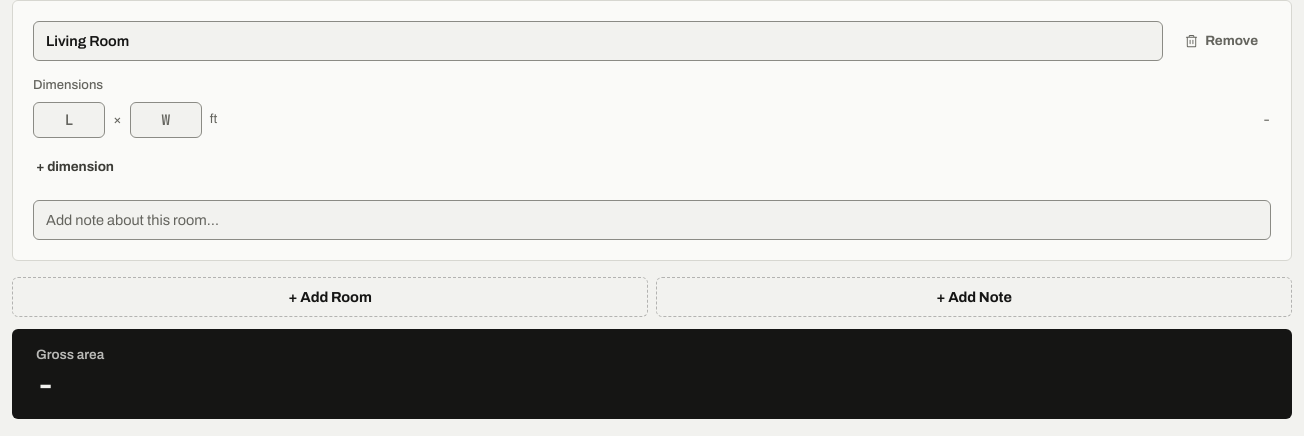
Scenario: RoomSection › edits width/length: derived sqft and gross-area total update on commit
This screenshot has width=1304, height=436.
Type "12" into the field with placeholder "L". click: coordinates (69, 120)
box: [33,102,105,138]
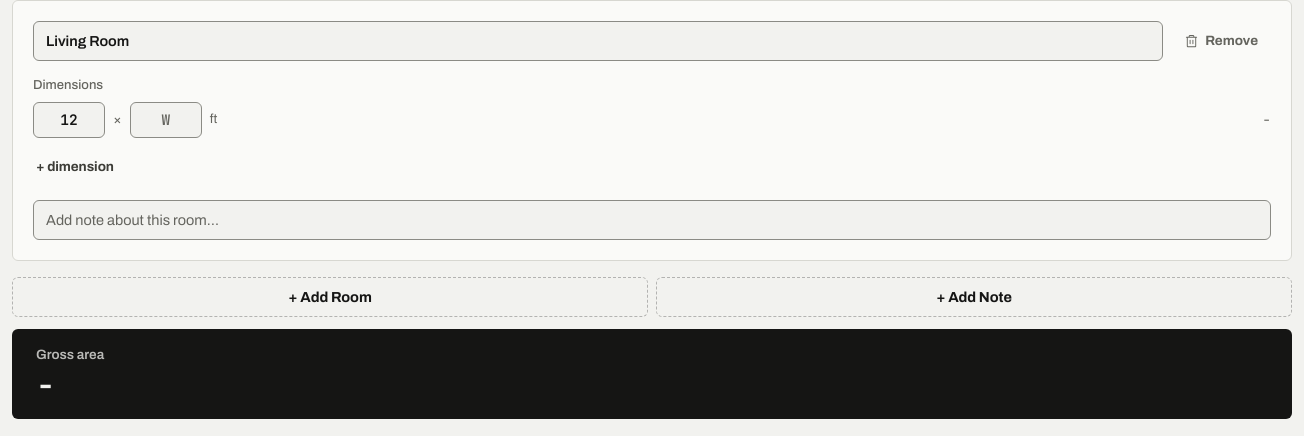
Type "10" into the field with placeholder "W". click: coordinates (166, 120)
box: [130,102,202,138]
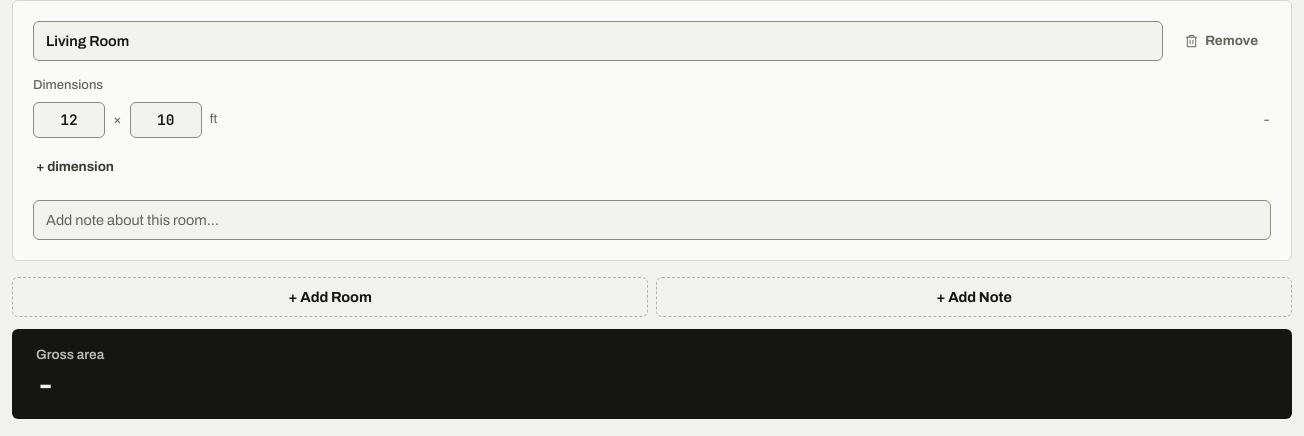
Leave the 3rd field with placeholder "W", box [130,102,202,138]
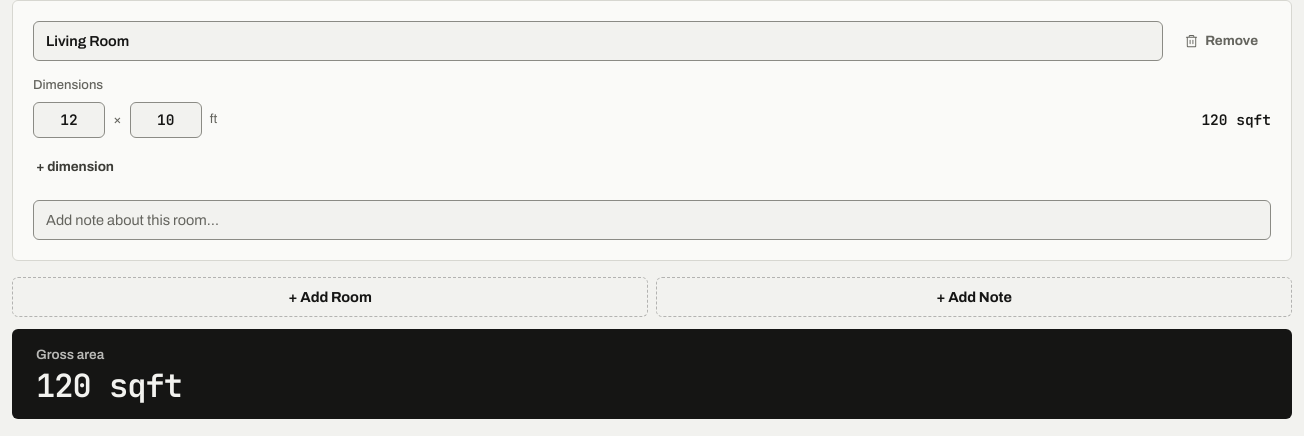
Expected: the 1st text "120 sqft" is shown, [1201,109,1271,131]
